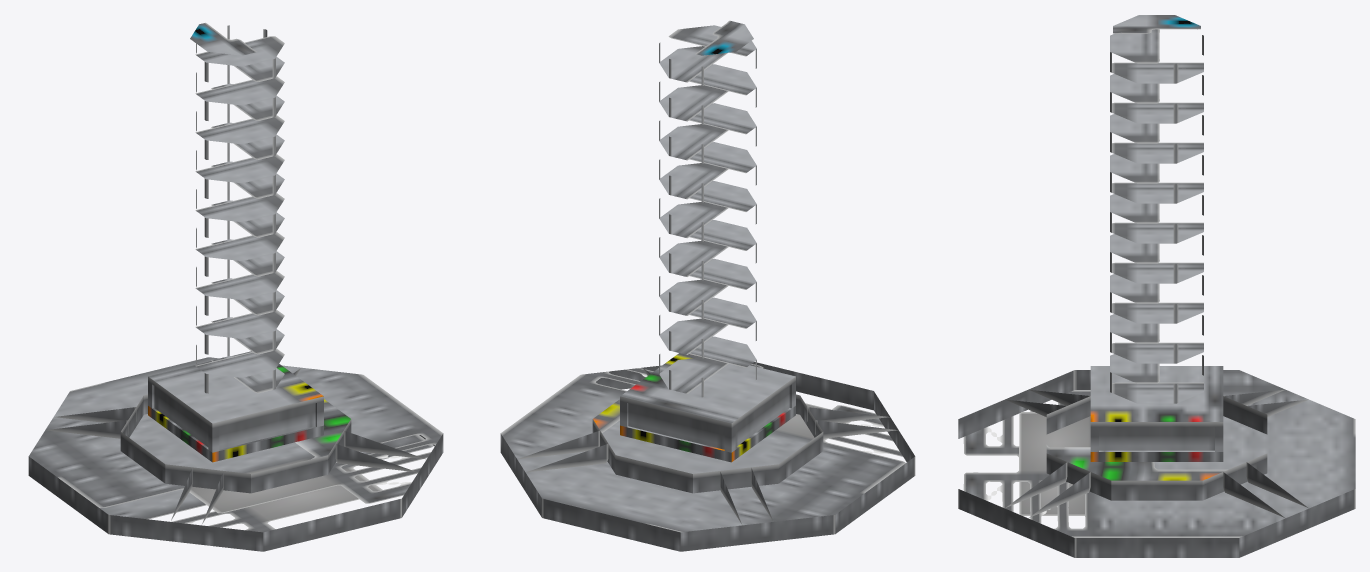
The model's file is railgun.obj.
3 renders of one model, left to right at view 1: azimuth 30°, elevation 25°; view 2: azimuth 150°, elevation 25°; view 3: azimuth 270°, elevation 25°, orthographic. The views are drawn at different scales.
Visible parts, largest first — view 1: Base, Barrel; view 2: Base, Barrel; view 3: Base, Barrel.
Boxes of the visible parts, bbox=[...] form: Base: bbox=[28, 25, 443, 551]; Barrel: bbox=[190, 22, 256, 55]; Base: bbox=[500, 25, 915, 551]; Barrel: bbox=[695, 20, 753, 55]; Base: bbox=[958, 29, 1355, 557]; Barrel: bbox=[1113, 15, 1200, 33].
Size of the model in its own units: 9 by 11 by 9.
